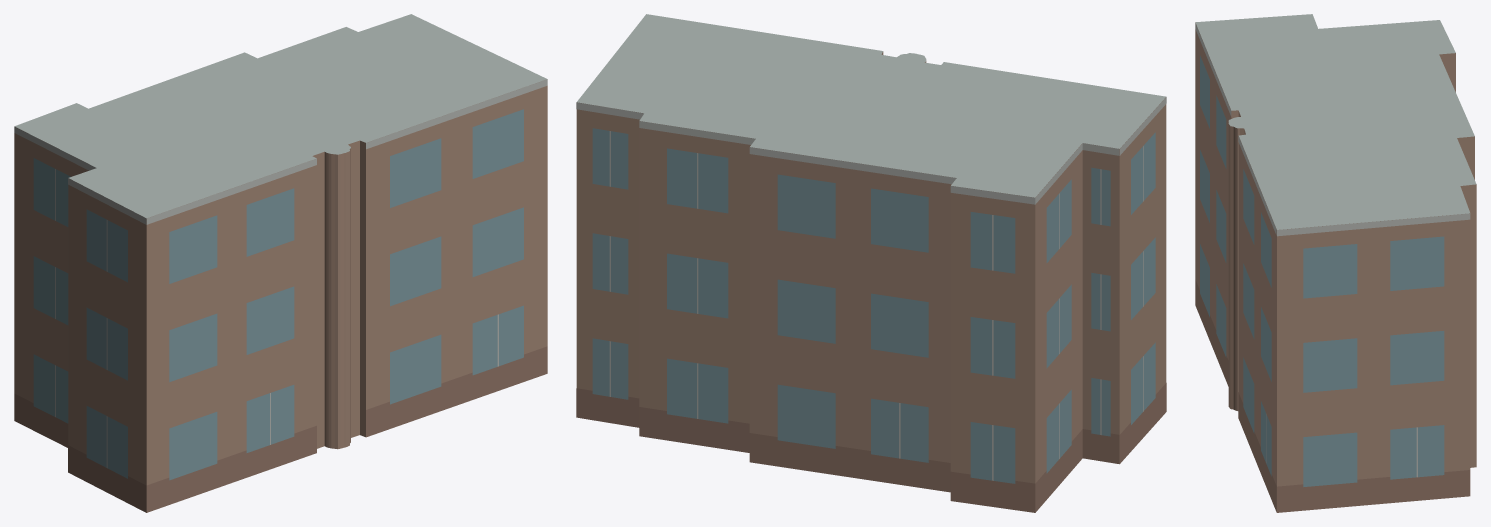
The model's file is survey-upis-32509437.glb.
3 views of the same model, side by side, from view 1: azimuth 30°, elevation 25°; view 2: azimuth 150°, elevation 25°; view 3: azimuth 270°, elevation 25° (orthographic). The views are drawn at different scales.
Visible parts, largest first — view 1: survey-upis-32509437.tmp; view 2: survey-upis-32509437.tmp; view 3: survey-upis-32509437.tmp.
Boxes of the visible parts, box(x1,y1,x2,y2) form: survey-upis-32509437.tmp: box(14, 14, 547, 512); survey-upis-32509437.tmp: box(576, 14, 1166, 512); survey-upis-32509437.tmp: box(1195, 14, 1476, 512).
Size of the model in its own units: 17.94 by 10.95 by 9.88.
